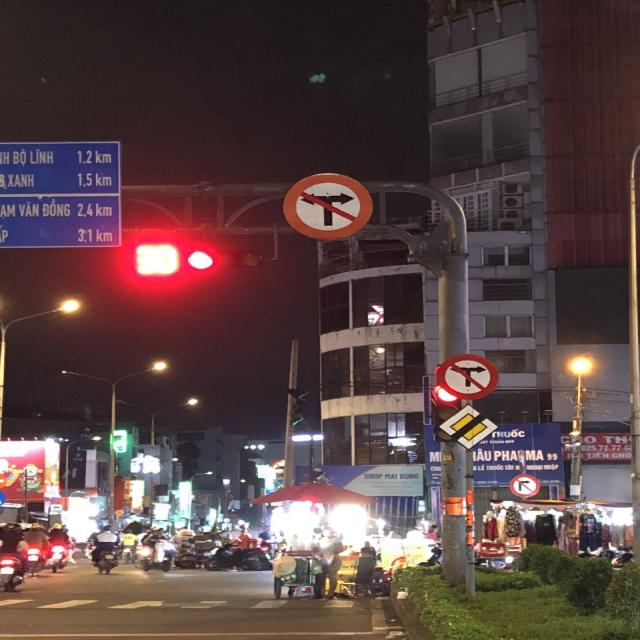Bien bao cam re phai: (505, 469, 543, 500)
